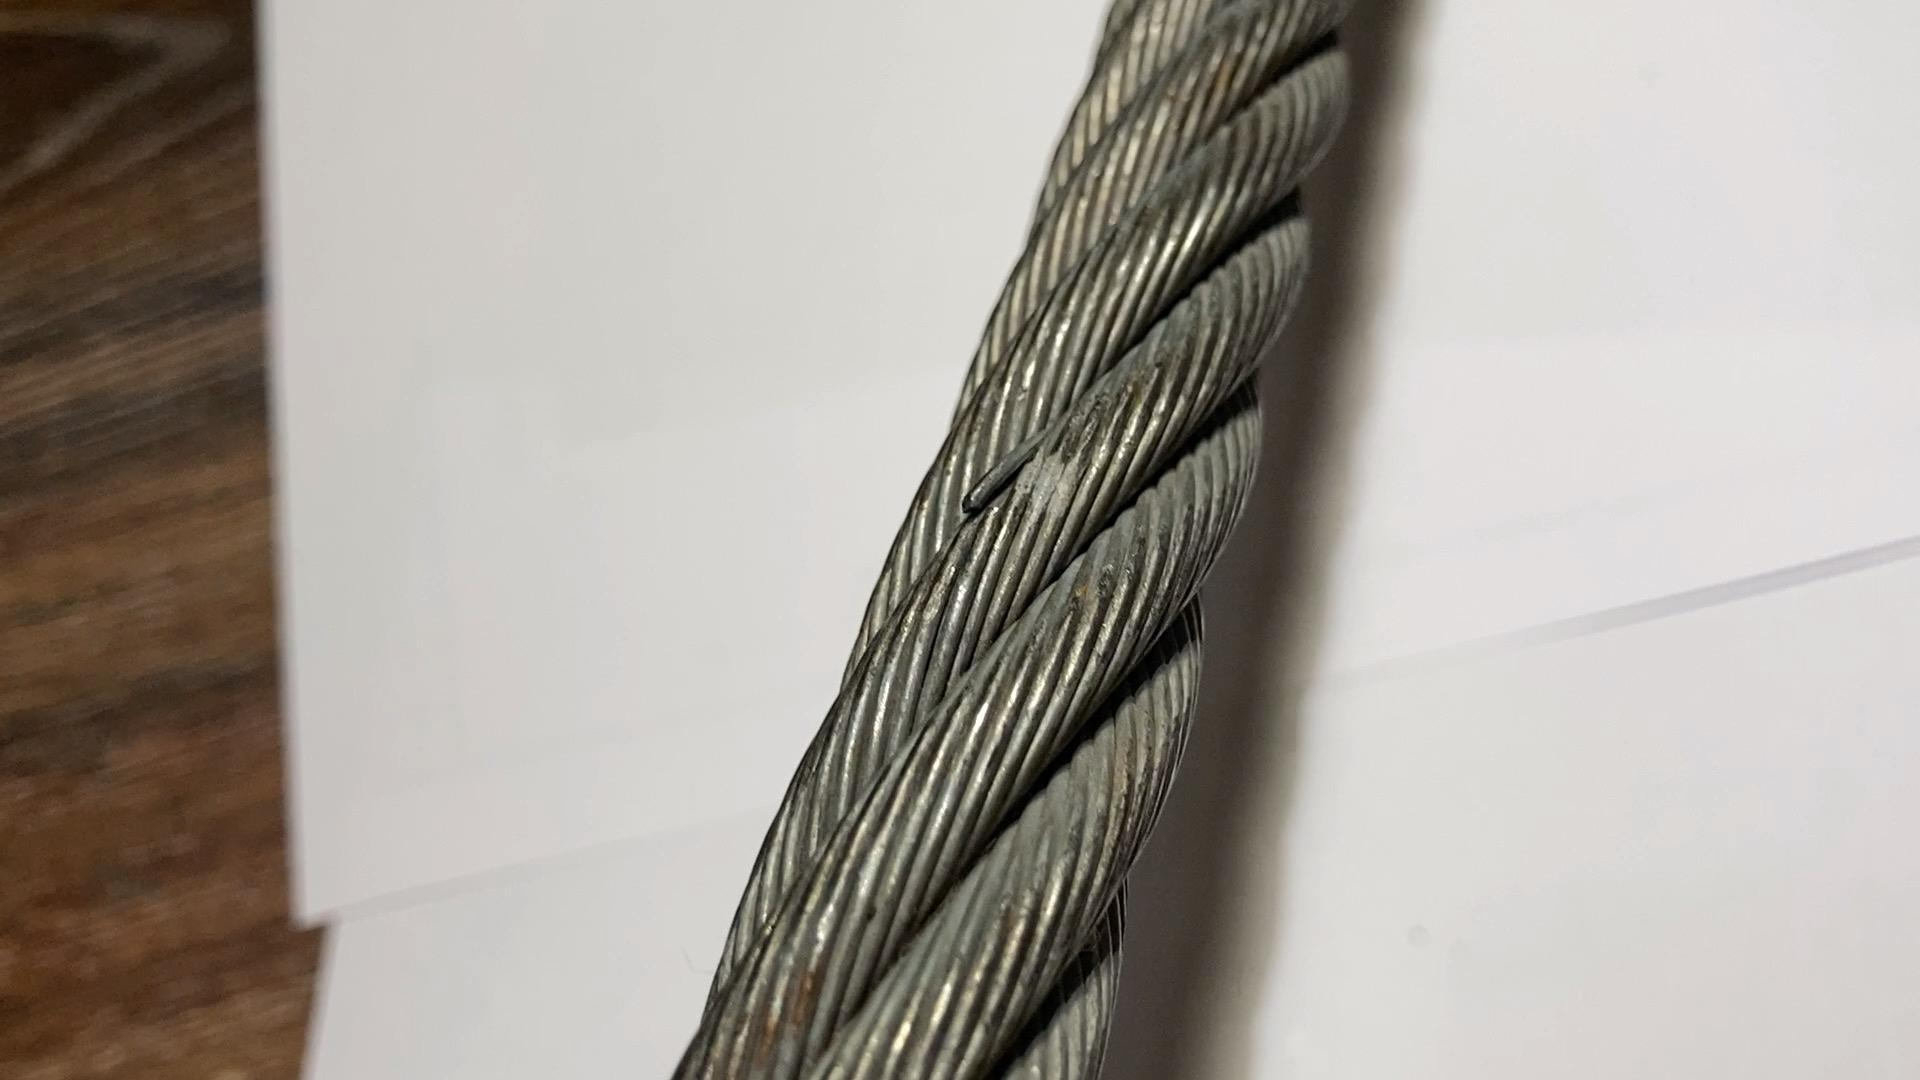break: (951, 421, 1051, 524)
